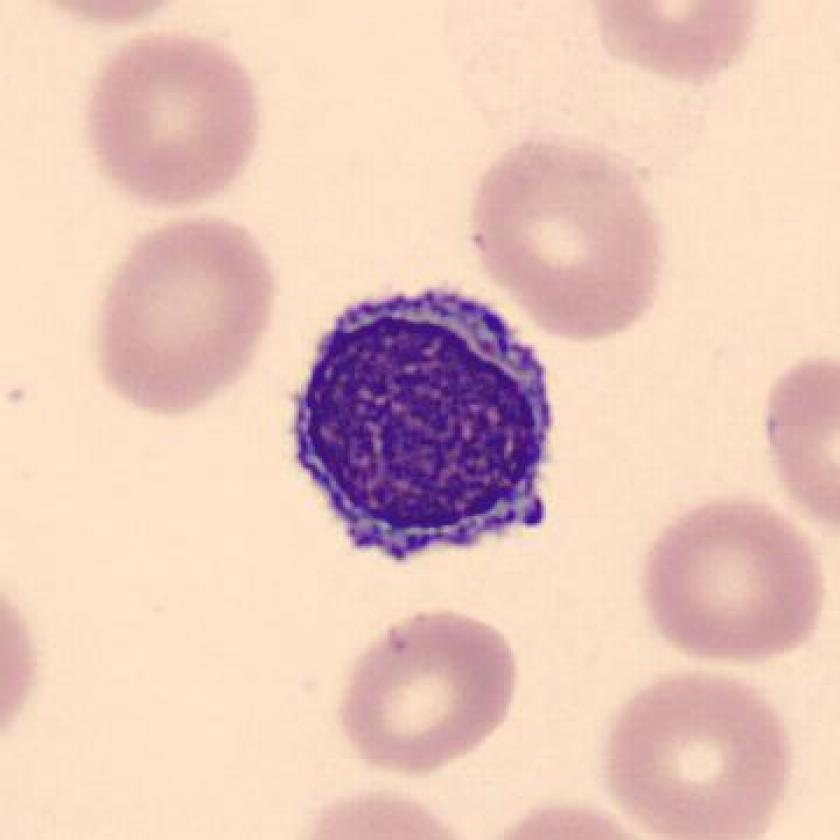lymphocyte: (281, 267, 575, 575)
